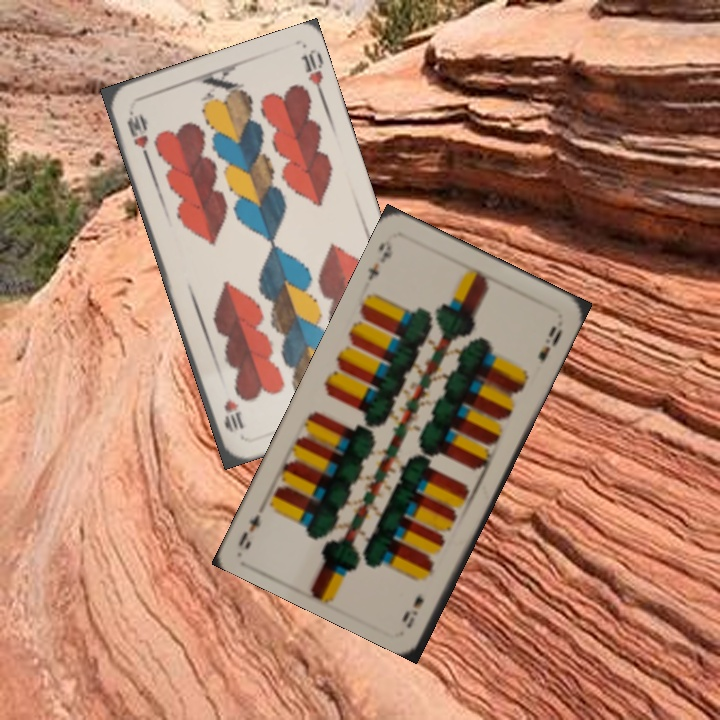E9: (363, 235, 395, 284), (398, 589, 427, 631)
H10: (123, 106, 152, 163)
